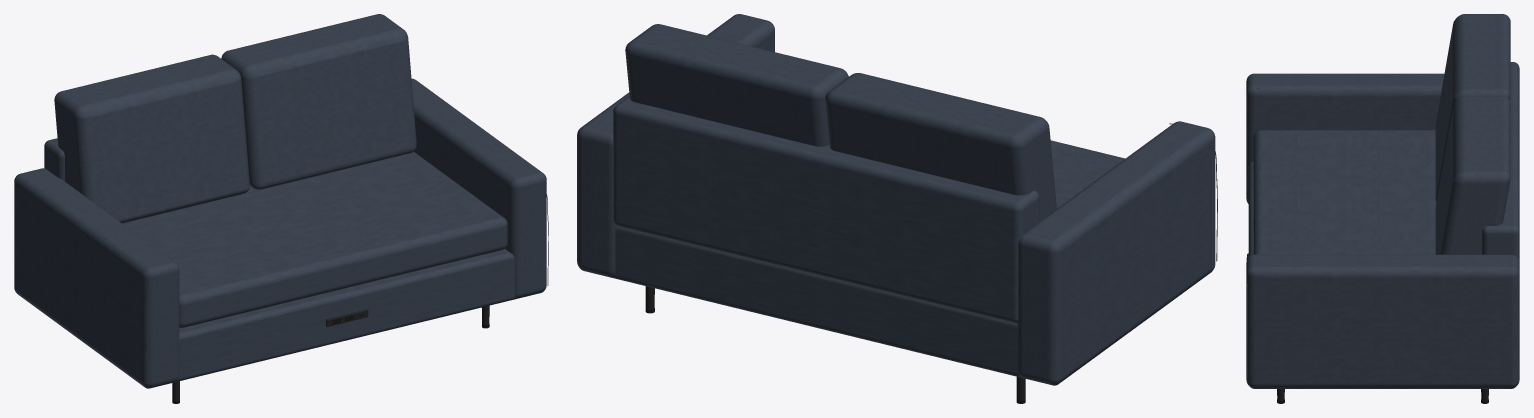
The model's file is psf-sofa-study-blue-gray.glb.
3 renders of one model, left to right at view 1: azimuth 30°, elevation 25°; view 2: azimuth 150°, elevation 25°; view 3: azimuth 270°, elevation 25°, orthographic. The views are drawn at different scales.
Visible parts, largest first — view 1: single-seat-cushion, left-back-cushion, right-back-cushion, left-arm, upholstered-base, right-arm, rear-support-panel-inferred; view 2: rear-support-panel-inferred, left-arm, upholstered-base, left-back-cushion, right-back-cushion, right-arm, single-seat-cushion; view 3: right-arm, single-seat-cushion, left-arm, right-back-cushion, left-back-cushion, rear-support-panel-inferred, upholstered-base.
Boxes of the visible parts, <box> form: single-seat-cushion: <box>122,151,507,327</box>; left-back-cushion: <box>54,54,249,223</box>; right-back-cushion: <box>221,14,416,189</box>; left-arm: <box>14,168,179,388</box>; upholstered-base: <box>18,249,542,388</box>; right-arm: <box>411,78,546,298</box>; rear-support-panel-inferred: <box>44,138,64,181</box>; rear-support-panel-inferred: <box>613,96,1039,323</box>; left-arm: <box>1017,121,1215,384</box>; upholstered-base: <box>581,226,1211,385</box>; left-back-cushion: <box>825,73,1056,220</box>; right-back-cushion: <box>625,24,848,146</box>; right-arm: <box>577,14,774,277</box>; single-seat-cushion: <box>1050,140,1125,208</box>; right-arm: <box>1246,254,1519,387</box>; single-seat-cushion: <box>1253,130,1436,254</box>; left-arm: <box>1246,73,1444,203</box>; right-back-cushion: <box>1435,96,1510,254</box>; left-back-cushion: <box>1435,14,1510,201</box>; rear-support-panel-inferred: <box>1482,62,1519,261</box>; upholstered-base: <box>1248,162,1515,388</box>.
Size of the model in its own units: 1.5 by 0.82 by 0.87.
5 materials, 1 textured.
